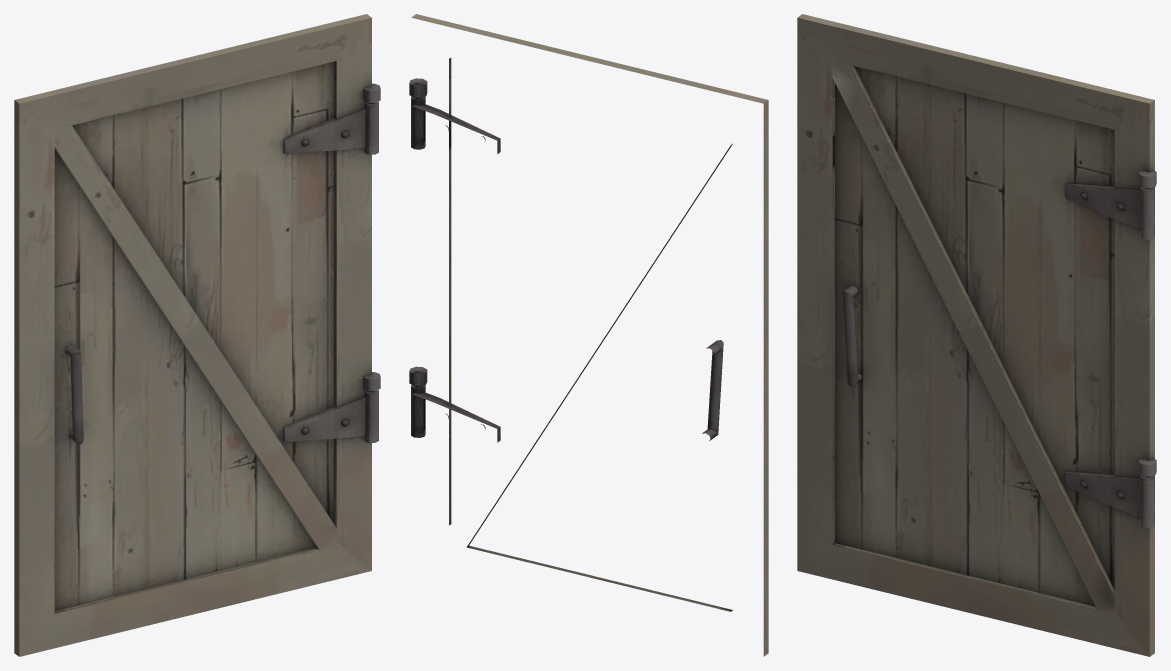
The picture shows the model from 3 angles, left to right: view 1: azimuth 30°, elevation 25°; view 2: azimuth 150°, elevation 25°; view 3: azimuth 330°, elevation 25°; orthographic projection.
Visible parts, largest first — view 1: body0_model0_lod0_mesh0; view 2: body0_model0_lod0_mesh0; view 3: body0_model0_lod0_mesh0.
Boxes of the visible parts, x1=… form: body0_model0_lod0_mesh0: x1=14, y1=14, x2=380, y2=656; body0_model0_lod0_mesh0: x1=409, y1=14, x2=768, y2=656; body0_model0_lod0_mesh0: x1=797, y1=14, x2=1156, y2=656.
Size of the model in its own units: 81.55 by 120 by 4.54.
1 material, 1 textured.
